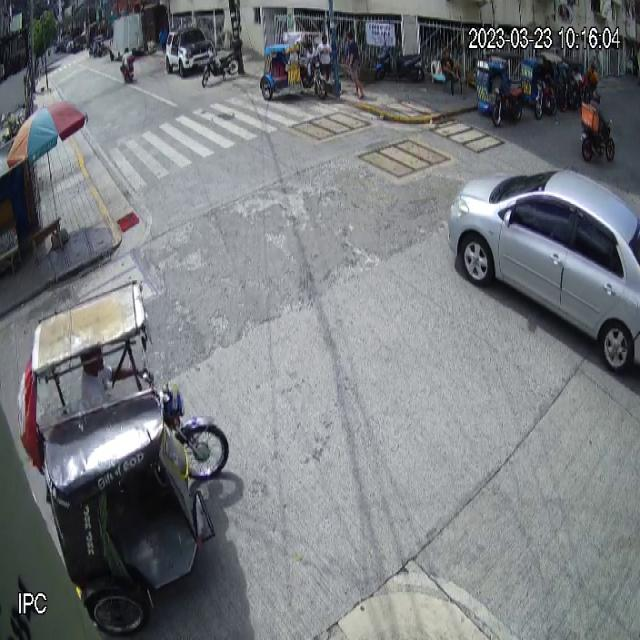Car: (448, 168, 640, 384)
Tricycle: (30, 274, 229, 634), (260, 29, 328, 102), (474, 52, 524, 130)
